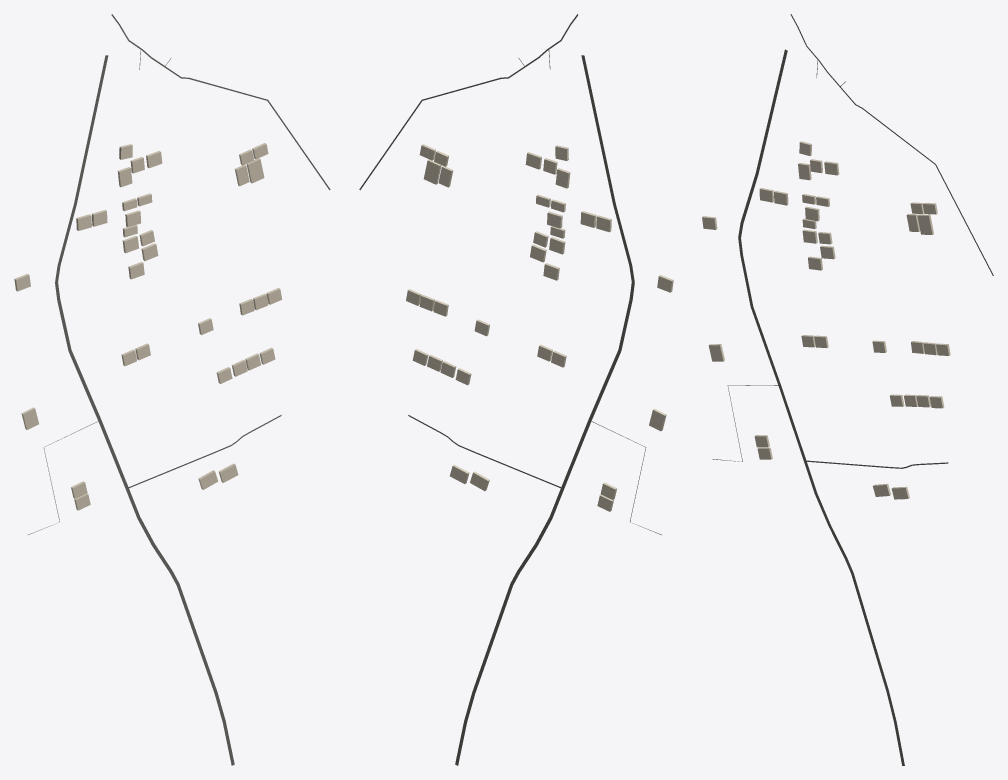
File: historic-palestine-11_30_3526_3244.glb
The picture shows the model from 3 angles, left to right: view 1: azimuth 30°, elevation 25°; view 2: azimuth 150°, elevation 25°; view 3: azimuth 330°, elevation 25°; orthographic projection. The views are drawn at different scales.
Visible parts, largest first — view 1: Road Al-Shuhadaa, Road; view 2: Road Al-Shuhadaa, Road; view 3: Road Al-Shuhadaa, Road.
Part boxes in pixels (x1,y1,x2,y2): Road Al-Shuhadaa: (55, 55, 234, 765); Road: (111, 14, 330, 190); Road Al-Shuhadaa: (455, 55, 634, 765); Road: (359, 14, 577, 190); Road Al-Shuhadaa: (738, 49, 904, 765); Road: (790, 14, 993, 275).
Bounding box in the file's own units: 808 × 1918 × 8.7.
